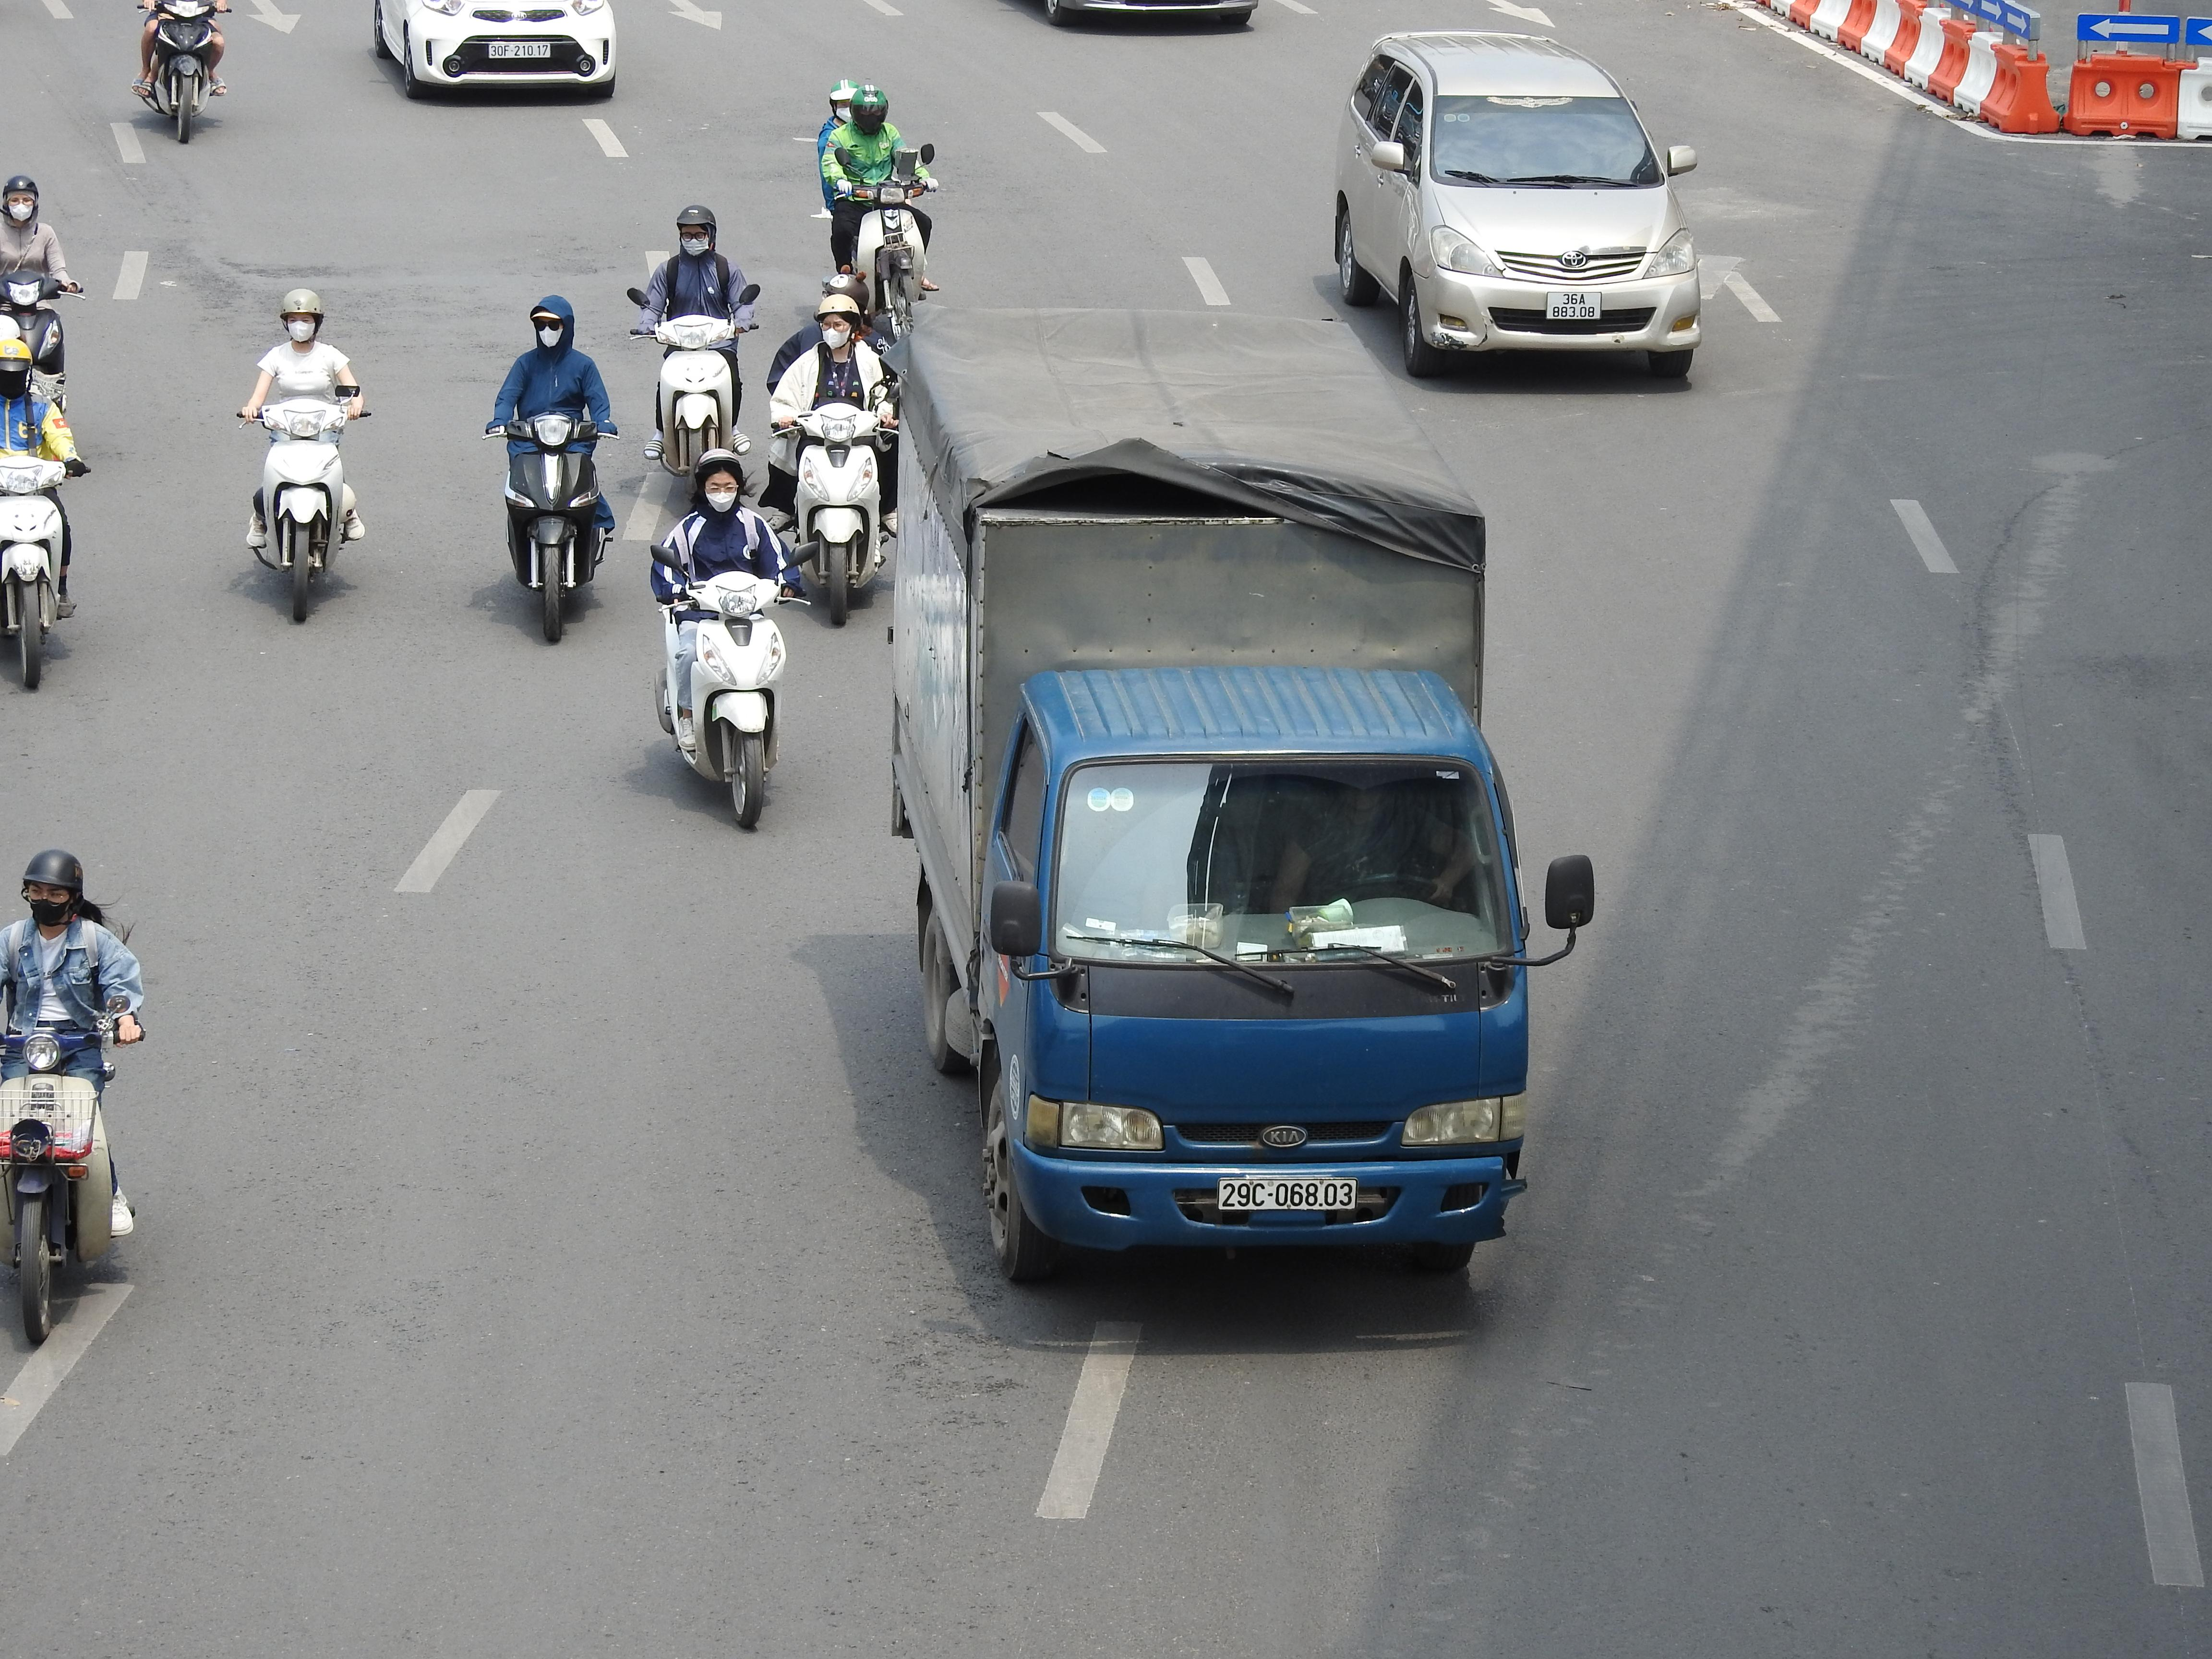BSD: (1219, 1176, 1357, 1211), (488, 42, 550, 59)
BSV: (1547, 291, 1601, 321)
car: (1329, 26, 1705, 383), (369, 0, 620, 103)
motorbike: (0, 845, 143, 1349), (648, 448, 791, 833), (763, 275, 900, 627), (486, 293, 618, 645), (240, 288, 366, 624), (631, 202, 759, 488), (817, 80, 939, 349), (0, 336, 87, 694), (0, 174, 80, 430), (134, 0, 228, 145)
truck: (881, 437, 1595, 1283)
